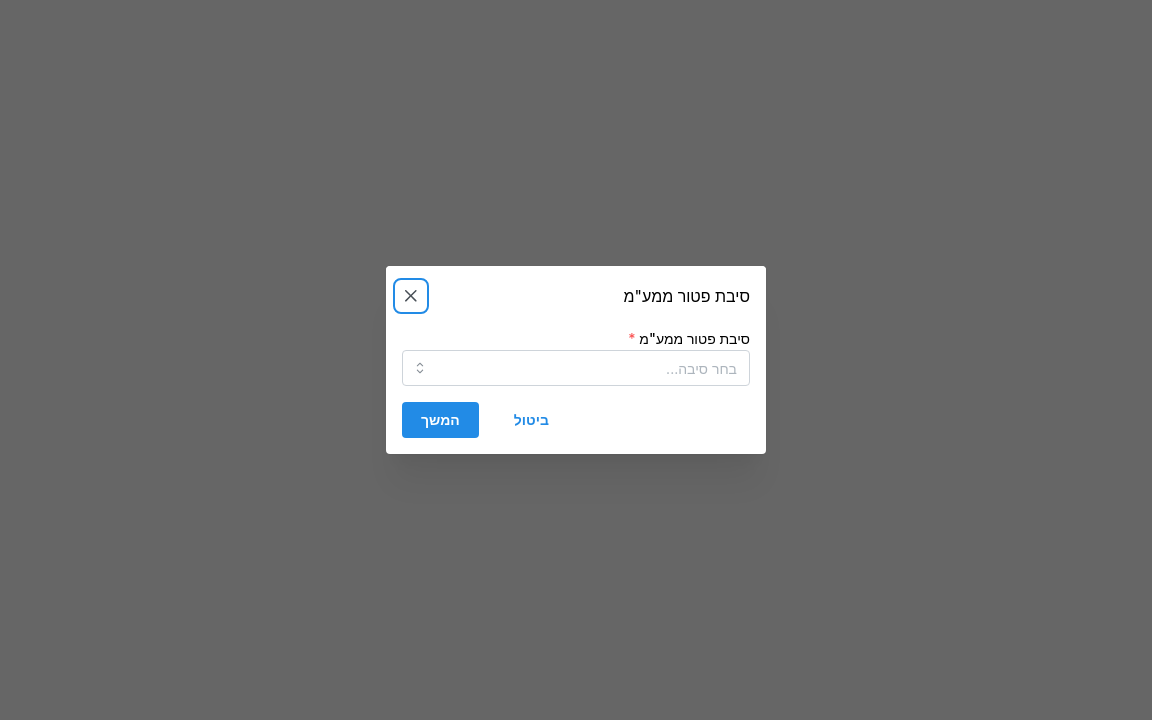
Test: VatExemptionReasonModal › shows error when "אחר" selected but notes are empty
The image size is (1152, 720).
Click the field with placeholder "בחר סיבה...": point(576, 368) [402, 350, 750, 386]
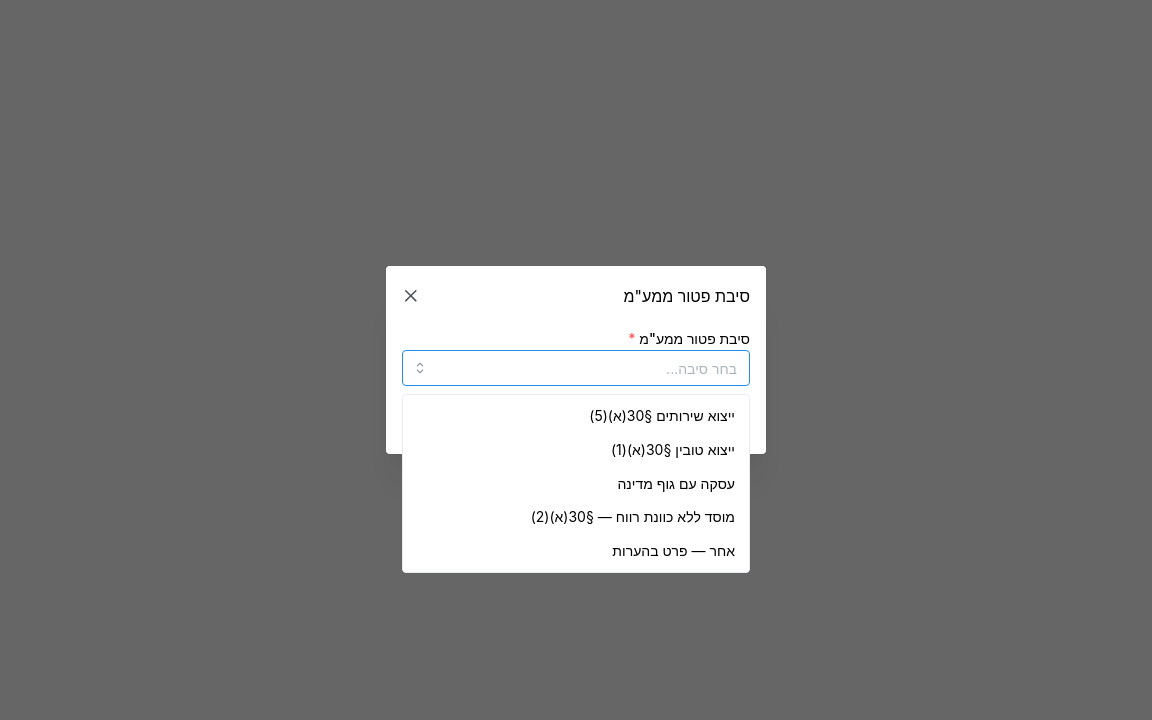
Click the option "אחר — פרט בהערות": point(674, 551) [612, 542, 735, 559]
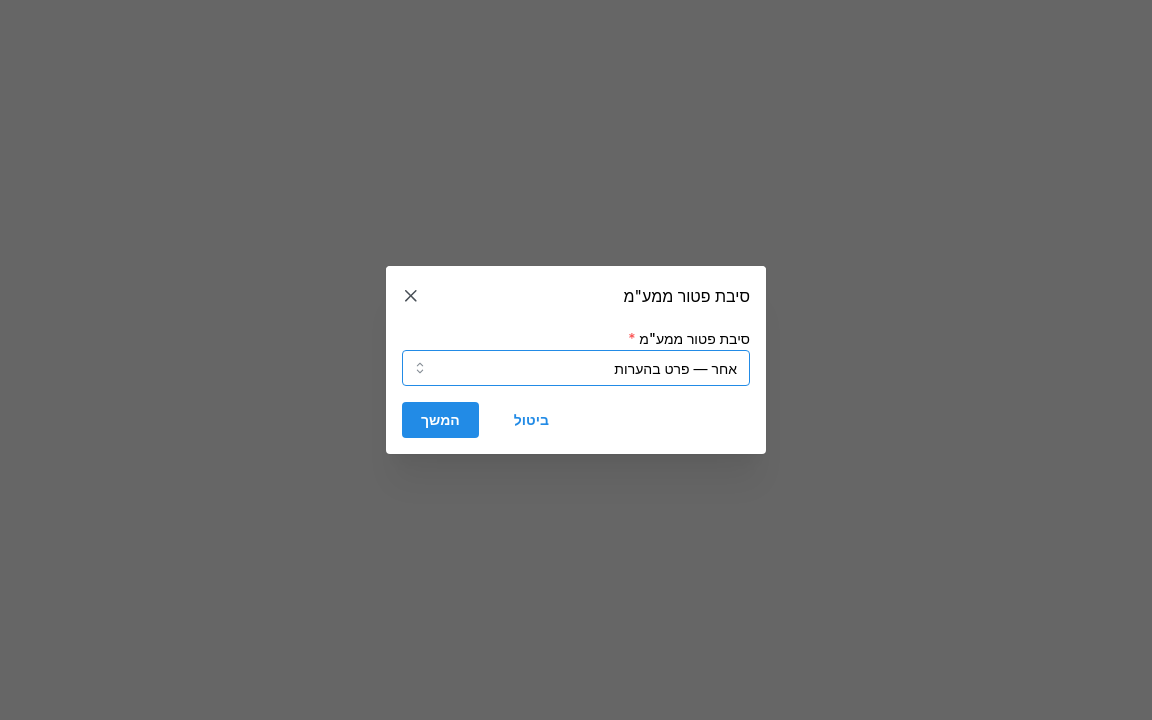
Click the button "המשך": point(440, 420) [402, 402, 479, 438]
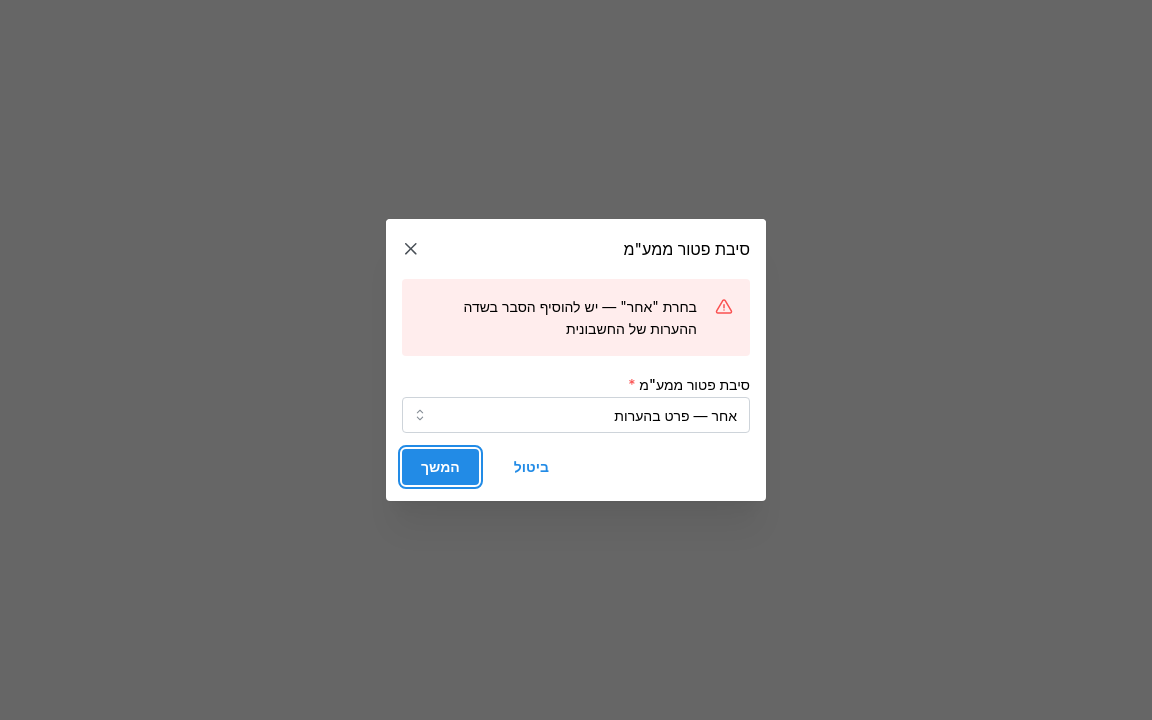
Check: the text "בחרת \"אחר\" — יש להוסיף הסבר בשדה ההערות של החשבונית" is shown, box [464, 298, 697, 337]
